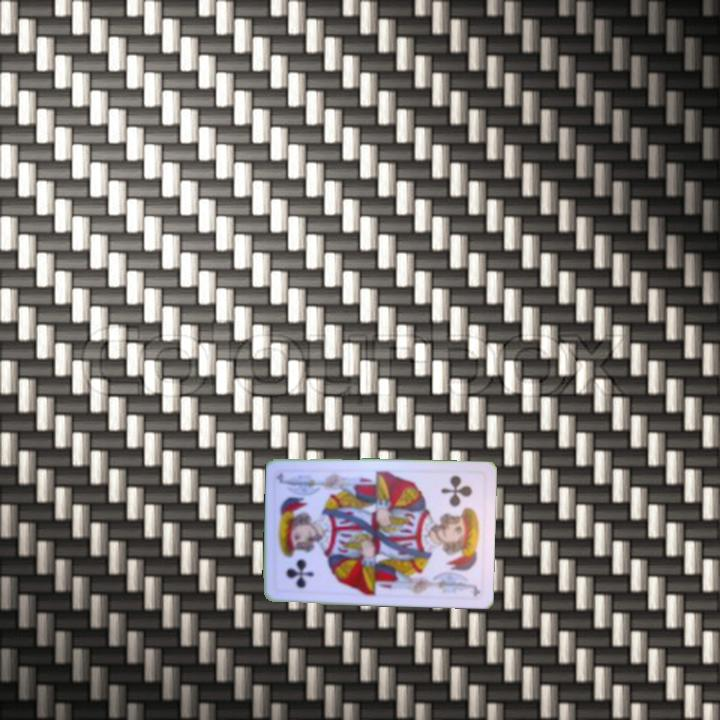c_j.png: (272, 526, 332, 595), (427, 469, 487, 538)
